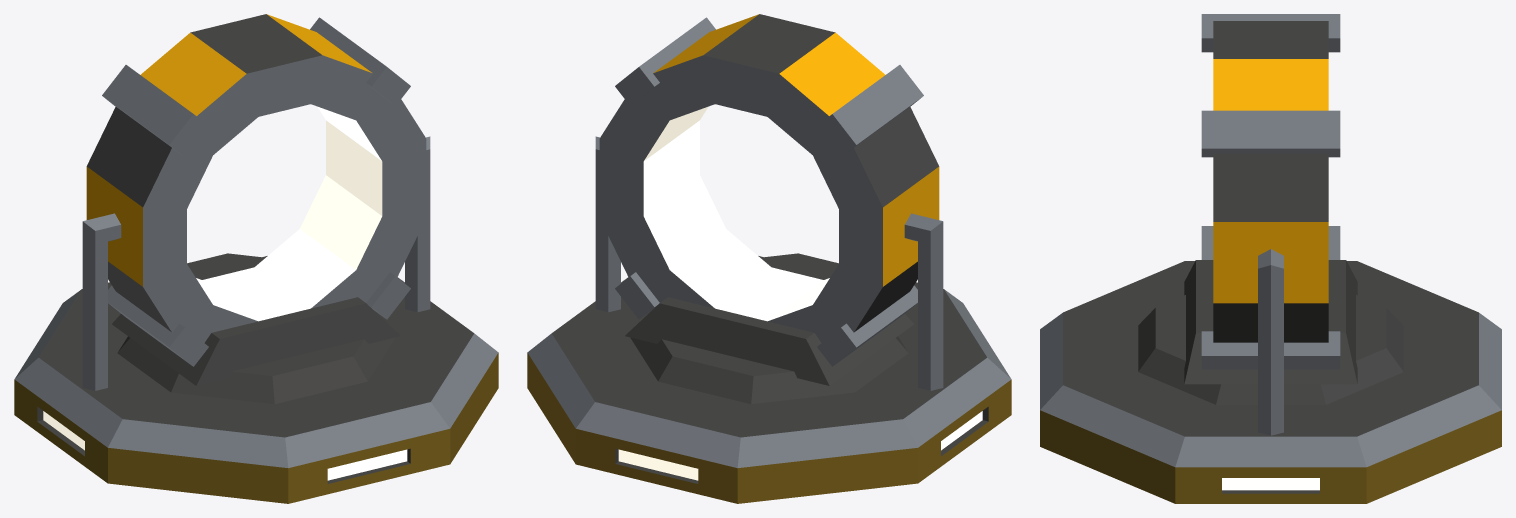
File: gravity_generator.glb
3 views of the same model, side by side, from view 1: azimuth 30°, elevation 25°; view 2: azimuth 150°, elevation 25°; view 3: azimuth 270°, elevation 25° (orthographic). The views are drawn at different scales.
Visible parts, largest first — view 1: gravity_generator; view 2: gravity_generator; view 3: gravity_generator.
Boxes of the visible parts, box(x1,y1,x2,y2) form: gravity_generator: box(14, 14, 498, 503); gravity_generator: box(527, 14, 1011, 503); gravity_generator: box(1040, 14, 1501, 503).
Size of the model in its own units: 1.6 by 1.4 by 1.6.
